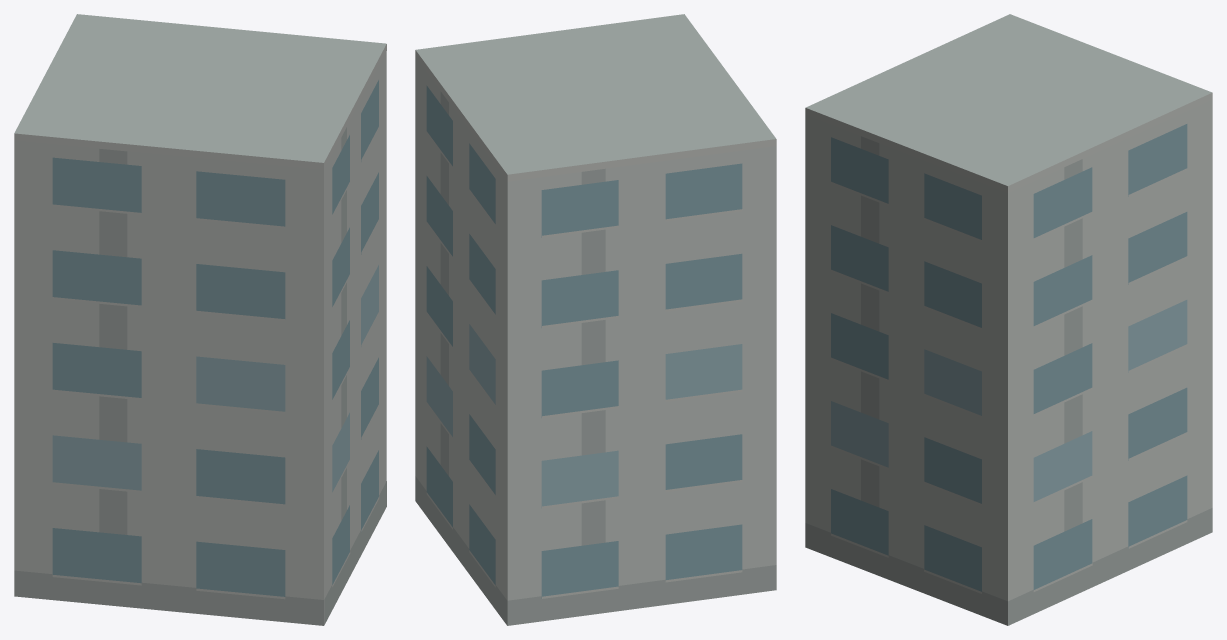
The model's file is survey-upis-32988020.glb.
The picture shows the model from 3 angles, left to right: view 1: azimuth 30°, elevation 25°; view 2: azimuth 150°, elevation 25°; view 3: azimuth 270°, elevation 25°; orthographic projection. The views are drawn at different scales.
Visible parts, largest first — view 1: survey-upis-32988020.tmp; view 2: survey-upis-32988020.tmp; view 3: survey-upis-32988020.tmp.
Part boxes in pixels (x1,y1,x2,y2): survey-upis-32988020.tmp: (14,14,386,625); survey-upis-32988020.tmp: (415,14,776,625); survey-upis-32988020.tmp: (805,14,1212,625).
Bounding box in the file's own units: 13.07 × 15.55 × 13.06.
